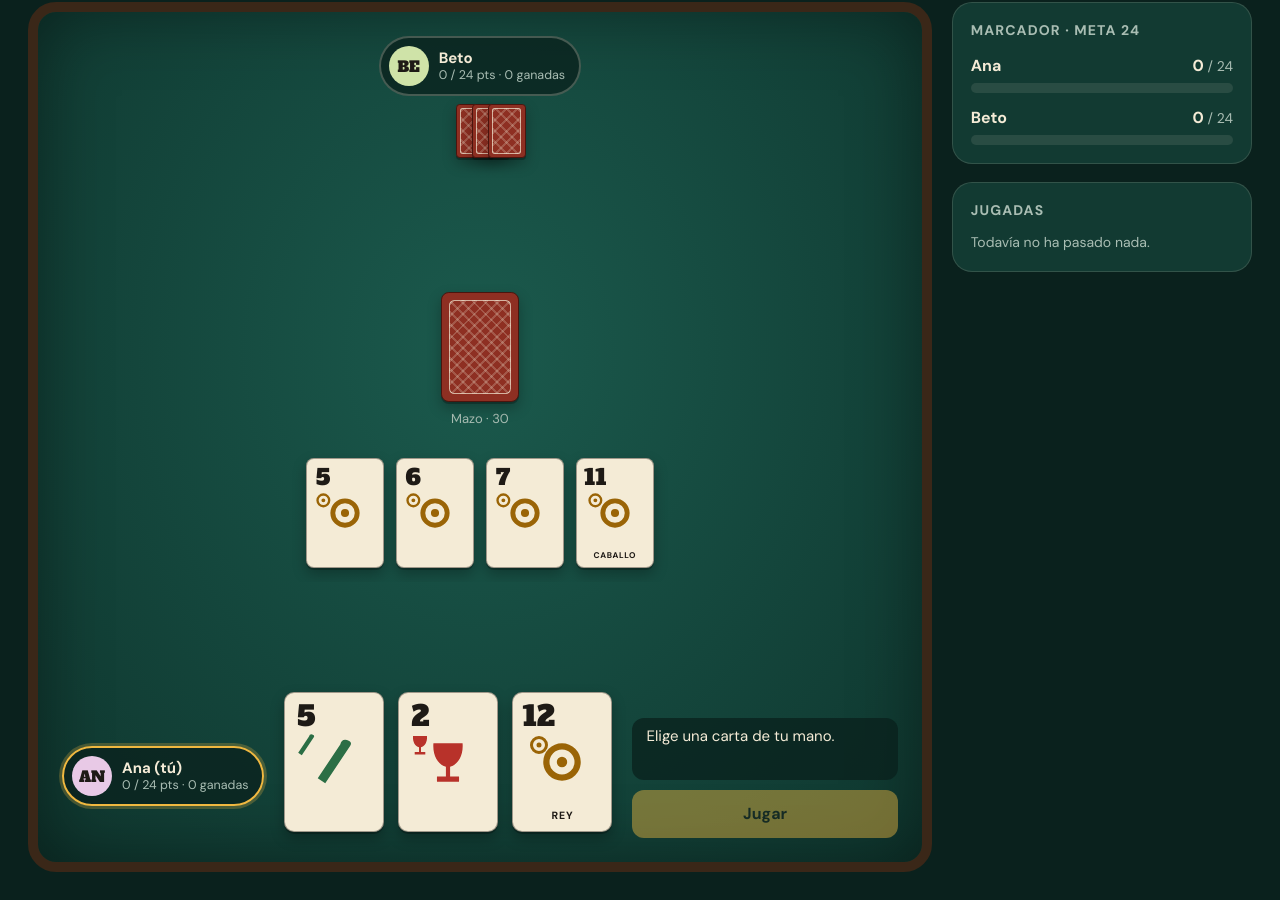
Scenario: GamePage · jugar › al elegir una carta explica qué te llevarías
This screenshot has width=1280, height=900.
(page scrolled)
What coordinates should you click on to do the following:
click the button named "5 de bastos"
I would click on:
 (334, 765)
Its box is 284,692 -> 384,838.
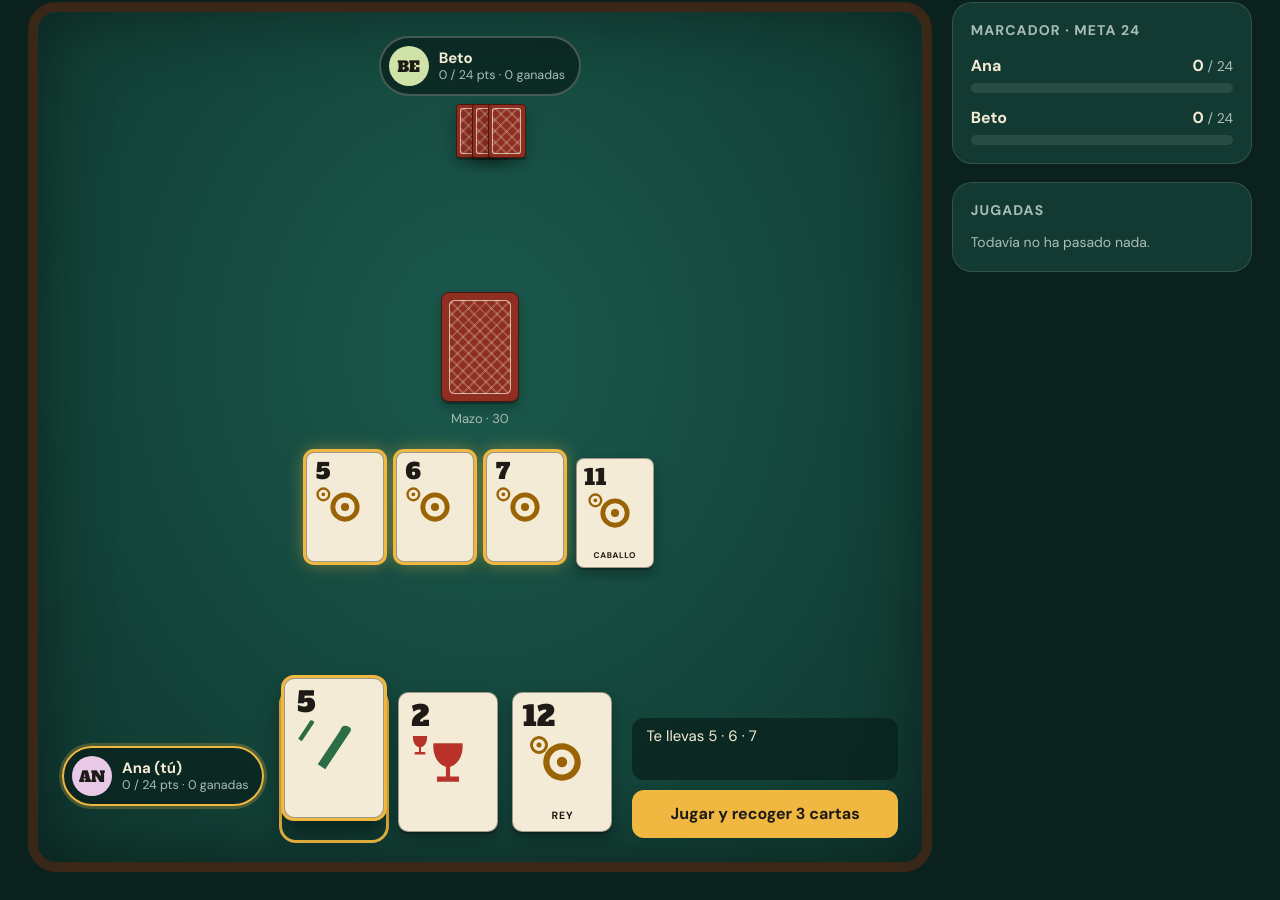
Now the text "Te llevas 5 · 6 · 7" is shown, box 632,718 -> 898,780
Now the button "Jugar y recoger 3 cartas" is enabled, box 632,790 -> 898,838
